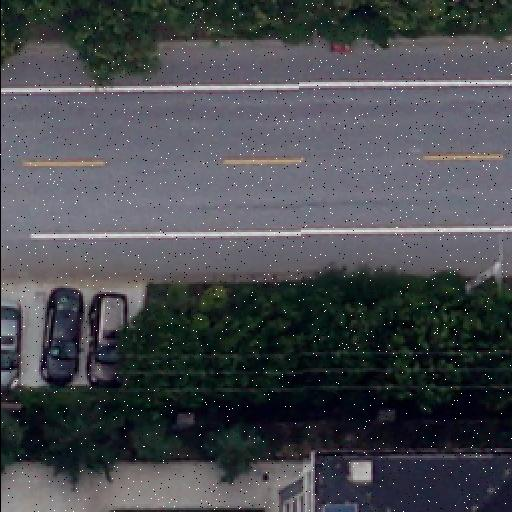solar-panel: (317, 493, 364, 512)
